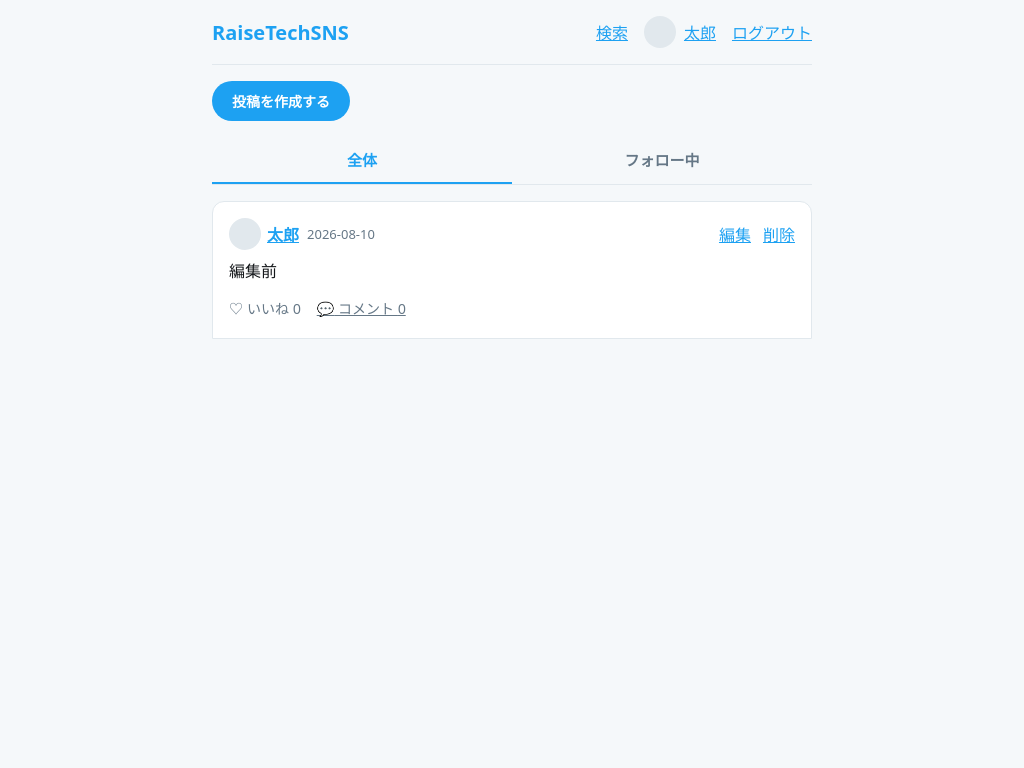
Test: TimelineScreen › 「編集」でモーダルが開き保存すると一覧に反映されモーダルが閉じる
The width and height of the screenshot is (1024, 768).
Expected: the text "編集前" is shown, [229, 260, 277, 282]
Click the button "編集": (735, 234) [719, 222, 751, 246]
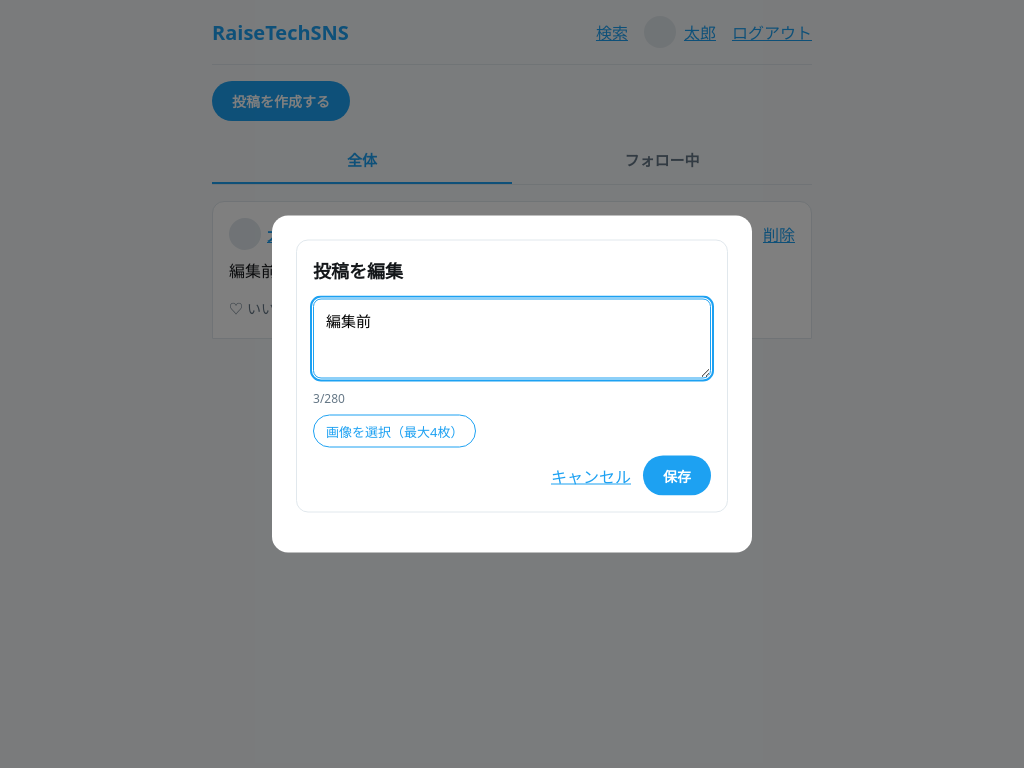
Replace the text in the text box named "投稿内容" with "編集後": (512, 338) [313, 298, 711, 378]
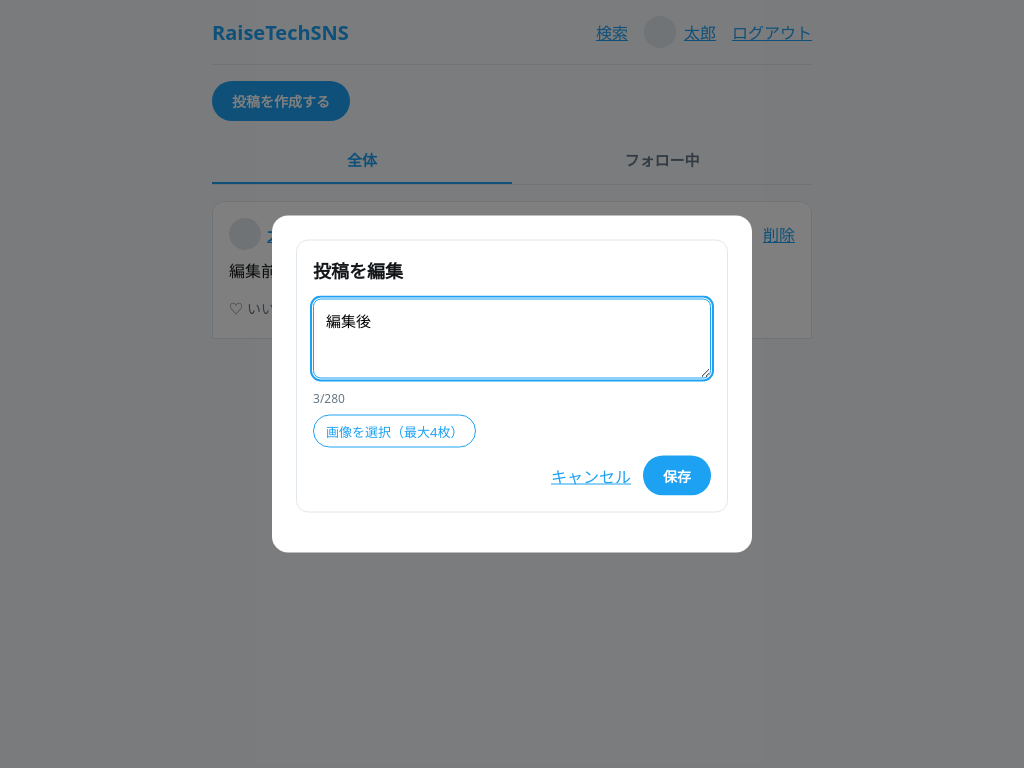
Click the button "保存": (677, 476) [643, 456, 711, 496]
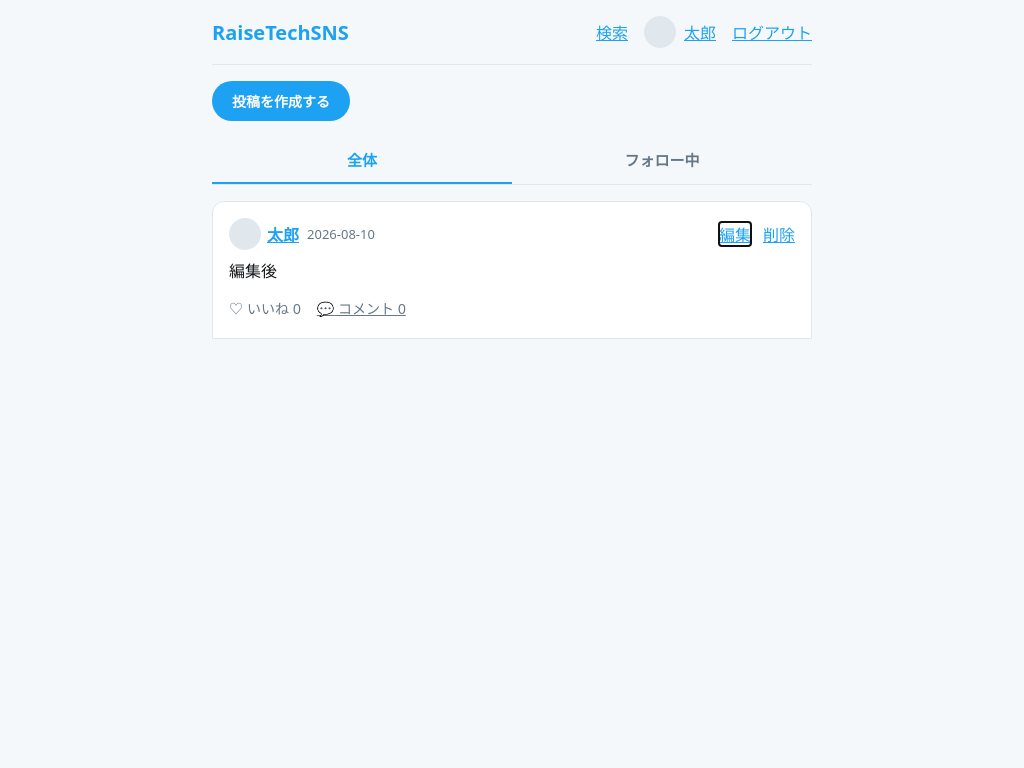
Result: the text "編集後" is shown at [229, 260, 277, 282]
Result: the dialog is gone
